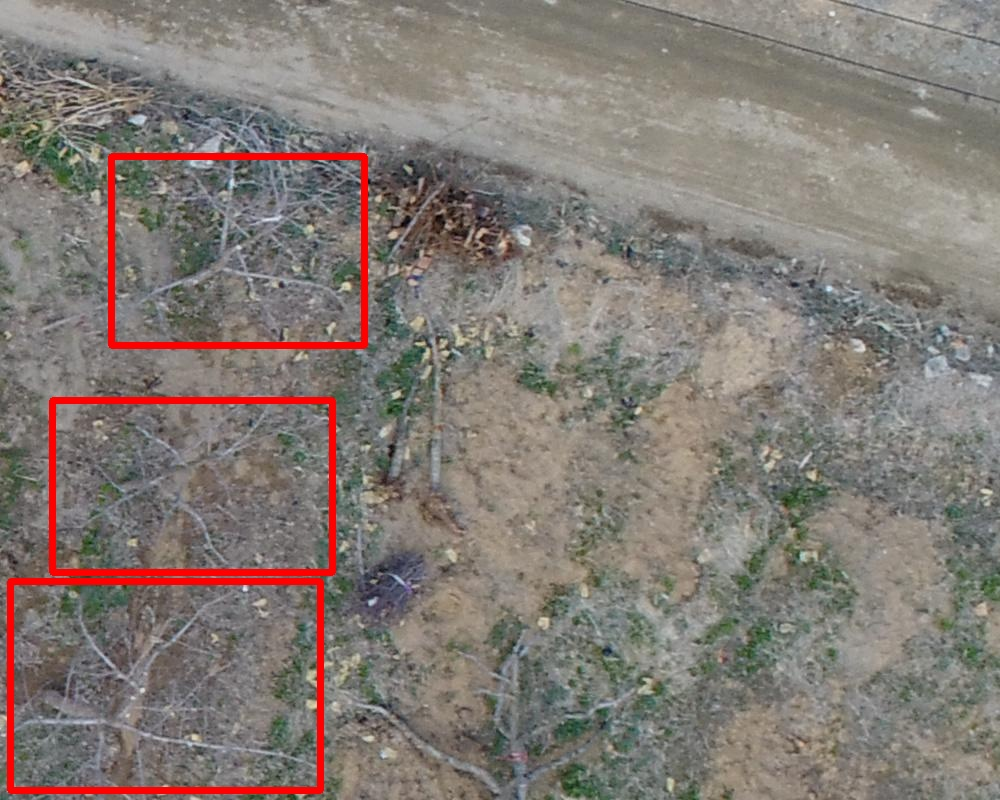apple: (10, 581, 320, 790), (52, 400, 332, 572), (111, 156, 364, 345)
